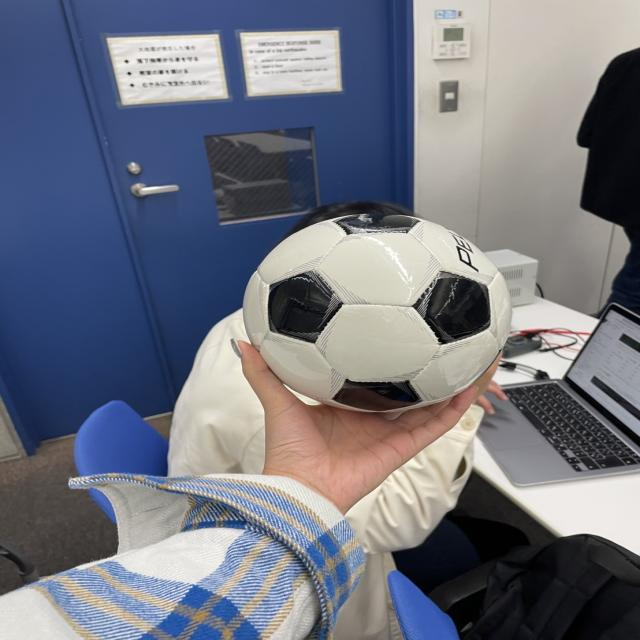ball: (243, 208, 515, 414)
